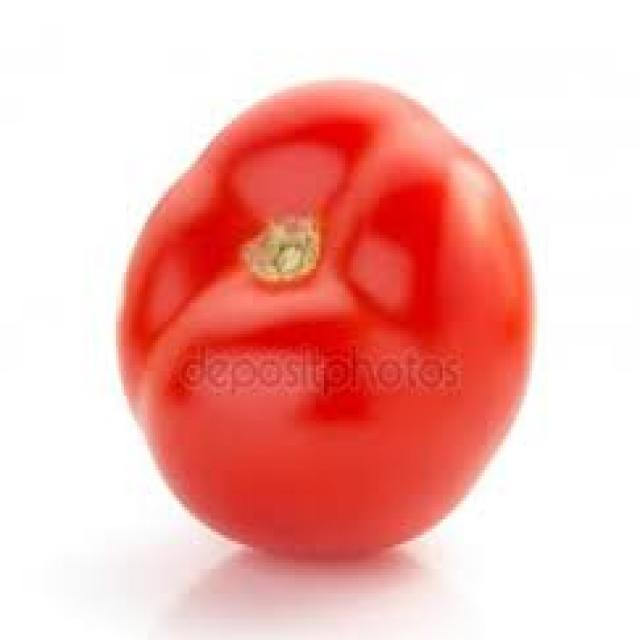organic waste: (118, 78, 530, 556)
